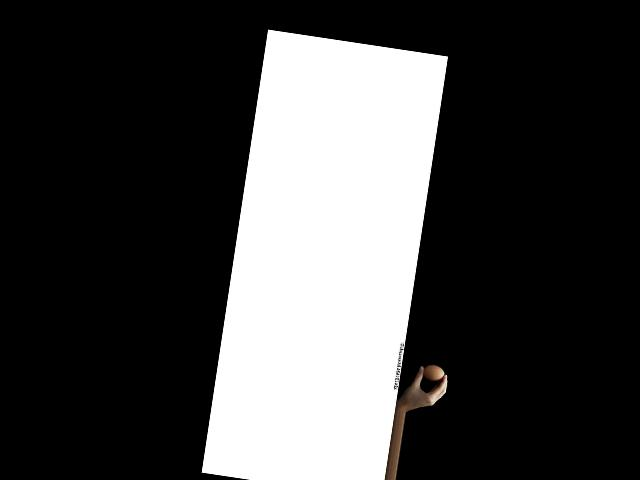egg: (422, 363, 445, 382)
